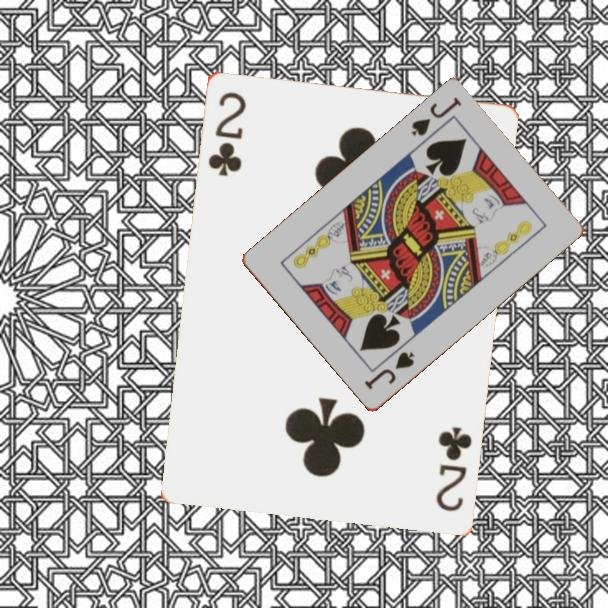c02: (204, 87, 249, 179), (432, 422, 475, 514)
s11: (407, 94, 464, 140), (361, 348, 418, 393)
